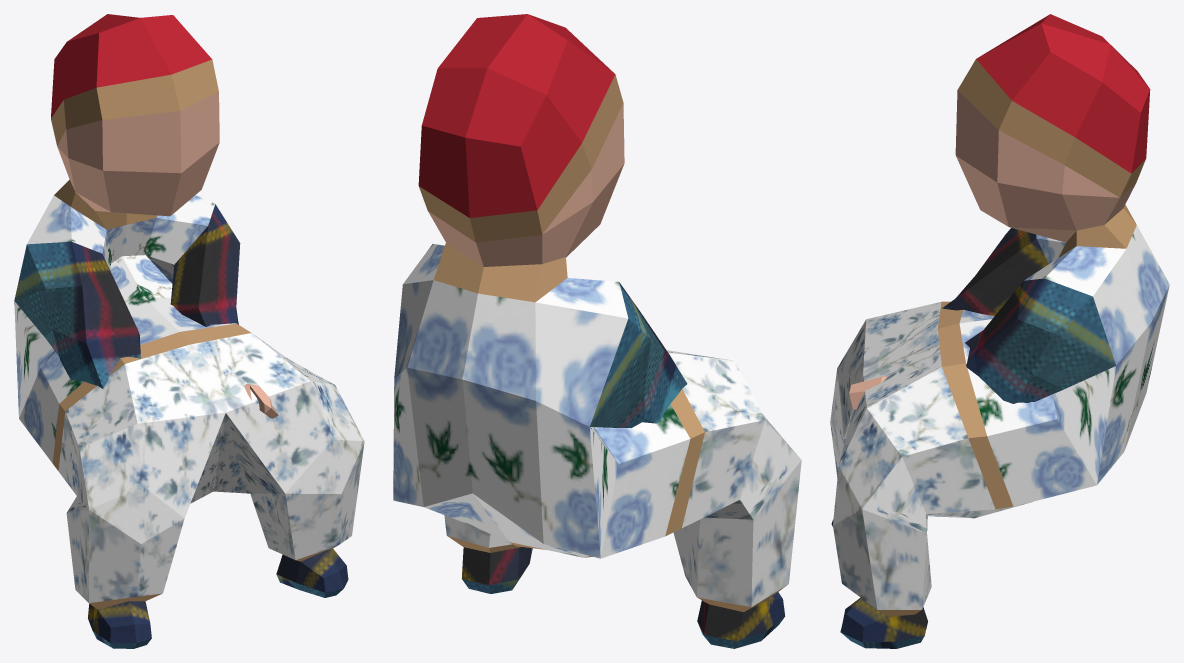
Rendered from SpringBaby.008.glb.
3 views of the same model, side by side, from view 1: azimuth 30°, elevation 25°; view 2: azimuth 150°, elevation 25°; view 3: azimuth 270°, elevation 25° (orthographic). The views are drawn at different scales.
Parts seen in each view (by area): view 1: SpringBaby.008; view 2: SpringBaby.008; view 3: SpringBaby.008.
Part boxes in pixels (box(x1,y1,x2,y2)): SpringBaby.008: box(14, 14, 364, 648); SpringBaby.008: box(393, 14, 801, 648); SpringBaby.008: box(830, 14, 1169, 648).
Size of the model in its own units: 0.2493 by 0.4641 by 0.2523.
Materials: 1 (1 with a texture image).
